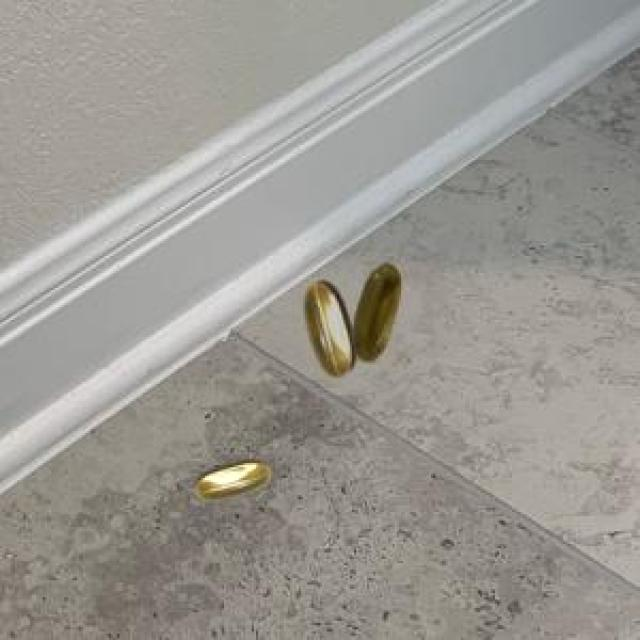Fish_Oil: (302, 260, 413, 382), (184, 446, 278, 507)
